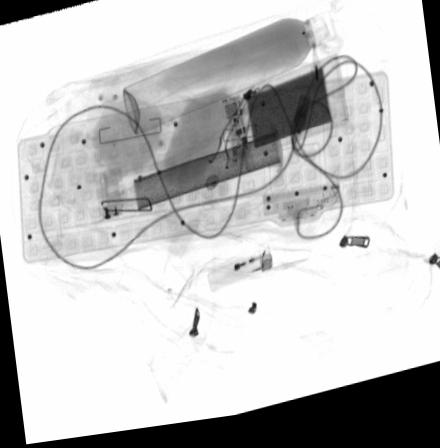Lighter: (205, 253, 275, 300)
Powerbank: (221, 62, 349, 171)
Sprayer: (122, 18, 337, 141)
